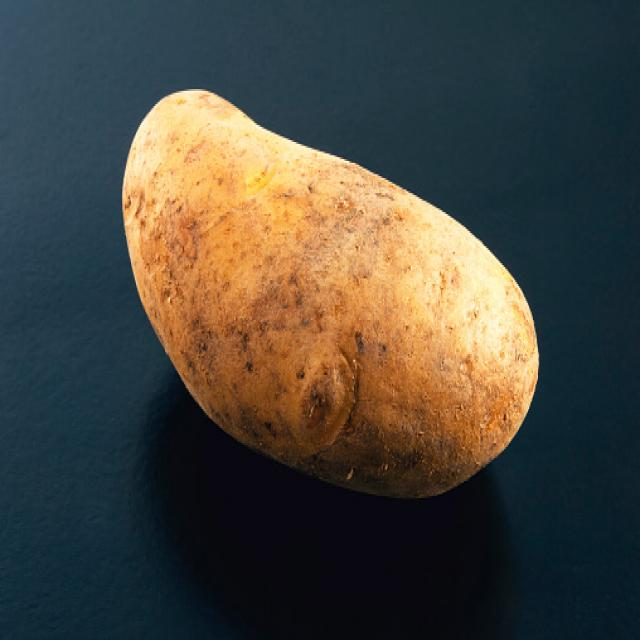potato: (120, 87, 540, 498)
